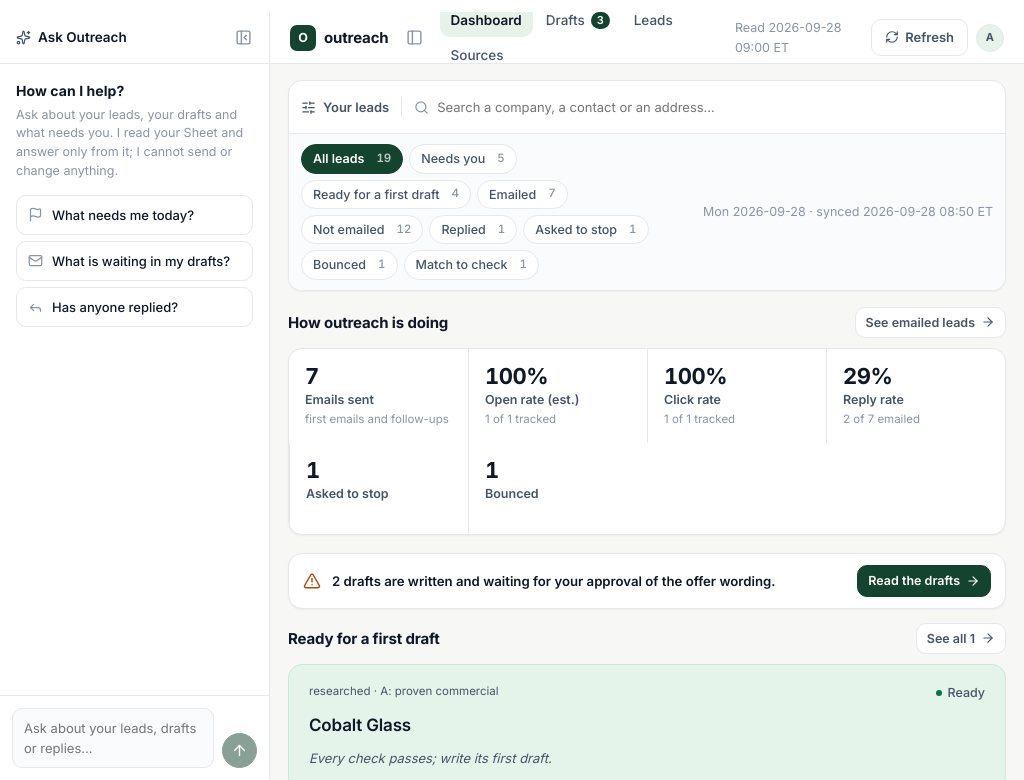
the assistant › says so when the assistant cannot be reached, and never blanks the page
The width and height of the screenshot is (1024, 780).
Type "anything" into the text box named "Ask the assistant". click: (113, 738)
box: [12,708,214,768]
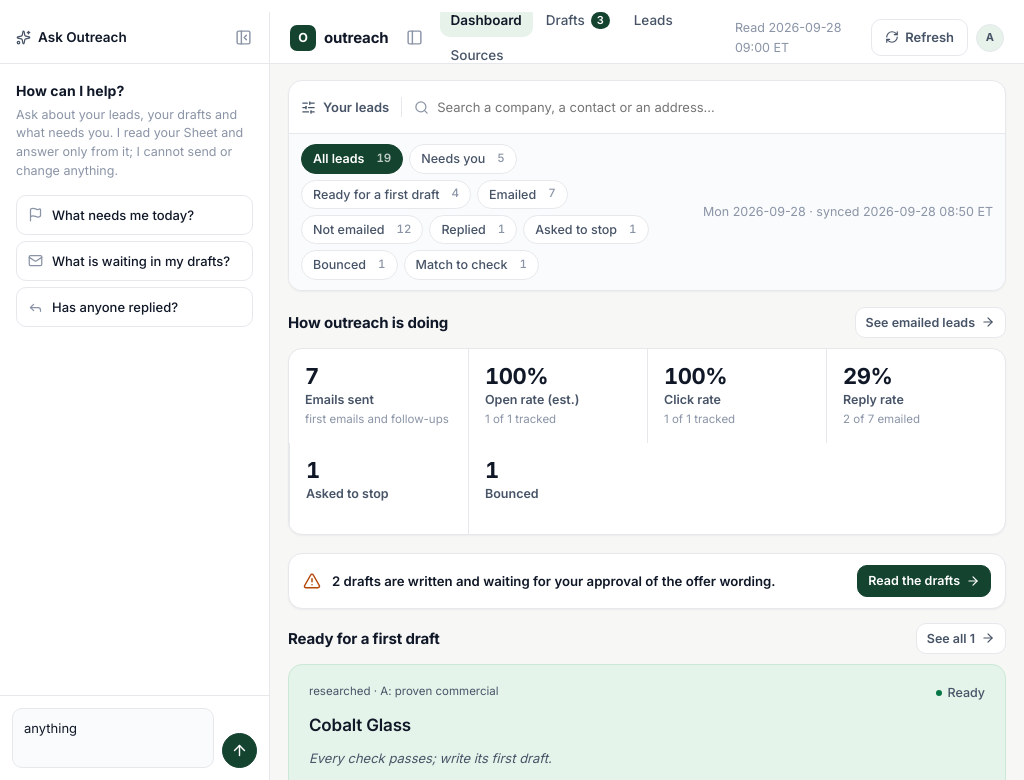
Click the button named "Ask". click: (240, 750)
box: [222,733,257,768]
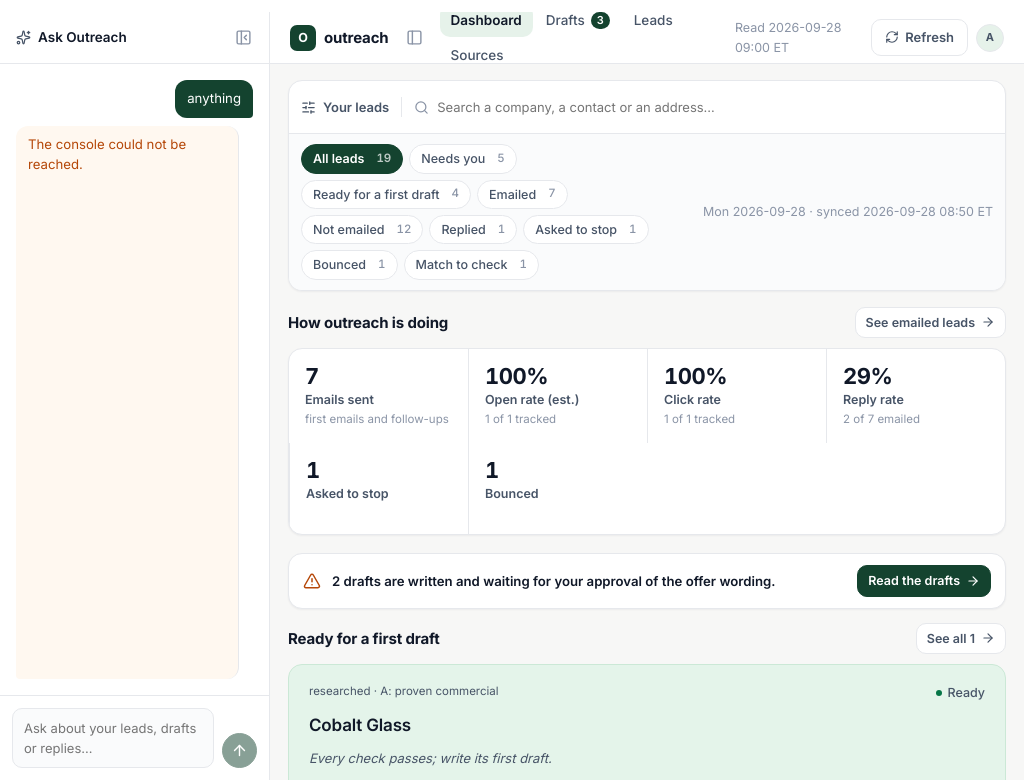
Expected: the text "The console could not be reached." is shown, [28,136,186,172]
